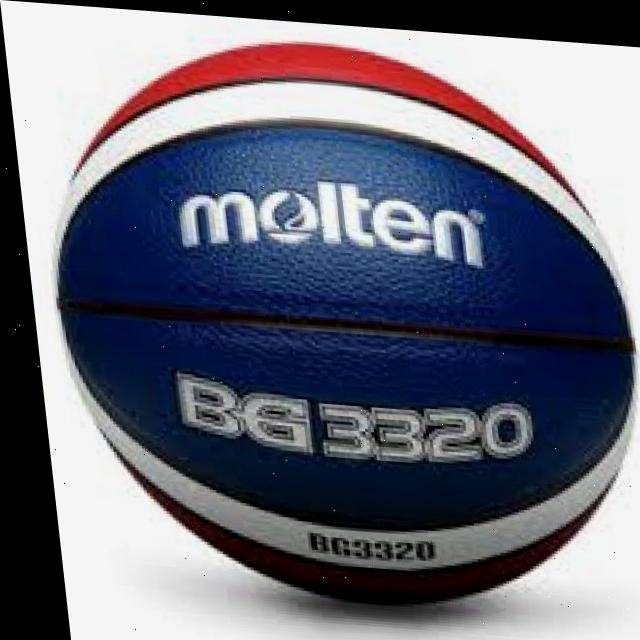Basketball: (29, 24, 640, 626)
